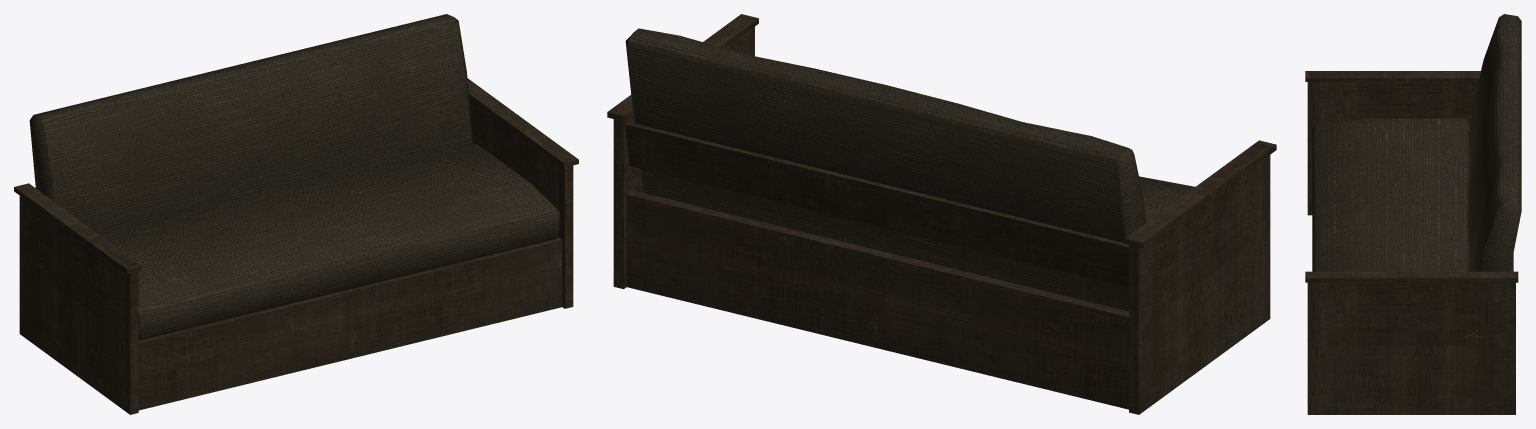
File: sofa_3_1.glb
3 renders of one model, left to right at view 1: azimuth 30°, elevation 25°; view 2: azimuth 150°, elevation 25°; view 3: azimuth 270°, elevation 25°, orthographic. The views are drawn at different scales.
Parts seen in each view (by area): view 1: sofa_3_1; view 2: sofa_3_1; view 3: sofa_3_1.
Boxes of the visible parts, x1=… form: sofa_3_1: x1=14, y1=14, x2=578, y2=414; sofa_3_1: x1=607, y1=14, x2=1276, y2=414; sofa_3_1: x1=1305, y1=14, x2=1521, y2=414.
Size of the model in its own units: 2.12 by 0.977 by 0.9346.
Materials: 2 (2 with a texture image).
